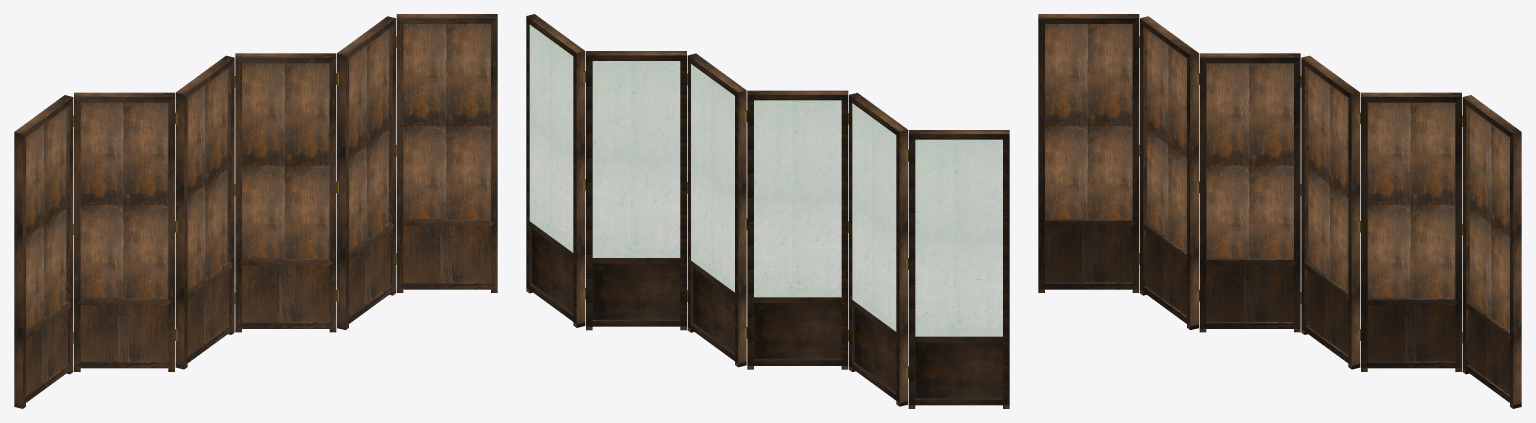
3 renders of one model, left to right at view 1: azimuth 30°, elevation 25°; view 2: azimuth 150°, elevation 25°; view 3: azimuth 330°, elevation 25°, orthographic.
Visible parts, largest first — view 1: 병풍 7; view 2: 병풍 7; view 3: 병풍 7.
Boxes of the visible parts, x1,y1,x2,y2 form: 병풍 7: [14, 14, 497, 408]; 병풍 7: [526, 14, 1009, 408]; 병풍 7: [1038, 14, 1521, 408].
Bounding box in the file's own units: 130 × 70.8 × 13.81.
